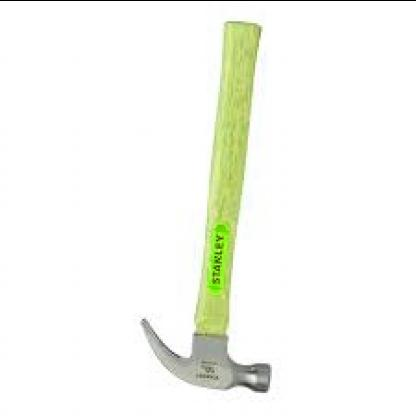Hammer: (141, 21, 273, 393)
